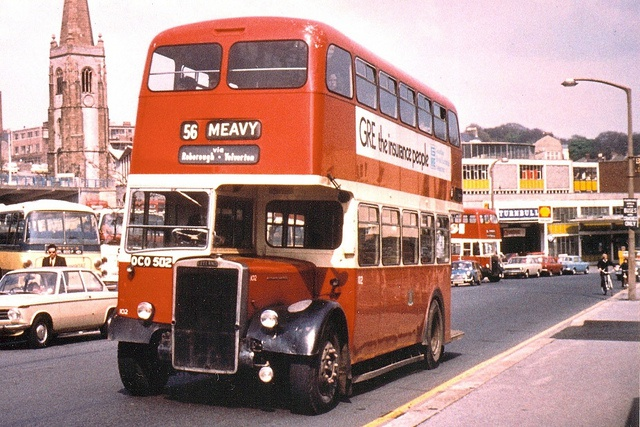non-vehicle: (600, 268, 614, 296), (622, 269, 628, 289)
